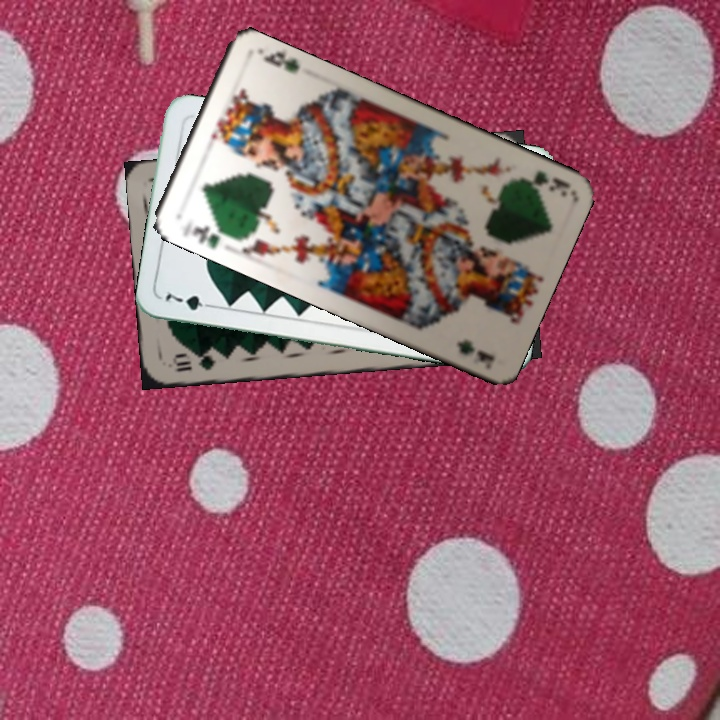G10: (169, 349, 218, 374)
G7: (161, 287, 219, 313)
GK: (178, 214, 233, 251), (513, 166, 572, 194)
